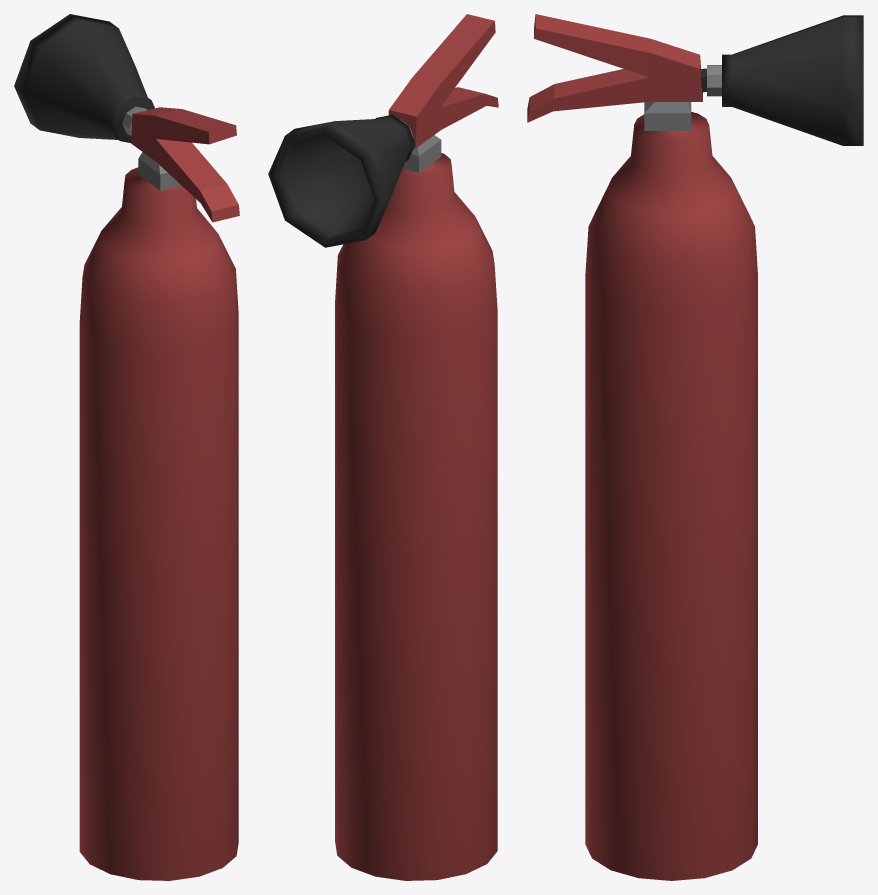
The model's file is Extincteur.fbx.
The picture shows the model from 3 angles, left to right: view 1: azimuth 30°, elevation 25°; view 2: azimuth 150°, elevation 25°; view 3: azimuth 270°, elevation 25°; orthographic projection. The views are drawn at different scales.
Visible parts, largest first — view 1: Extincteur; view 2: Extincteur; view 3: Extincteur.
Boxes of the visible parts, x1,y1,x2,y2 form: Extincteur: (14,14,239,880); Extincteur: (268,14,498,880); Extincteur: (527,14,863,880).
Bounding box in the file's own units: 10 × 52.88 × 19.49.
